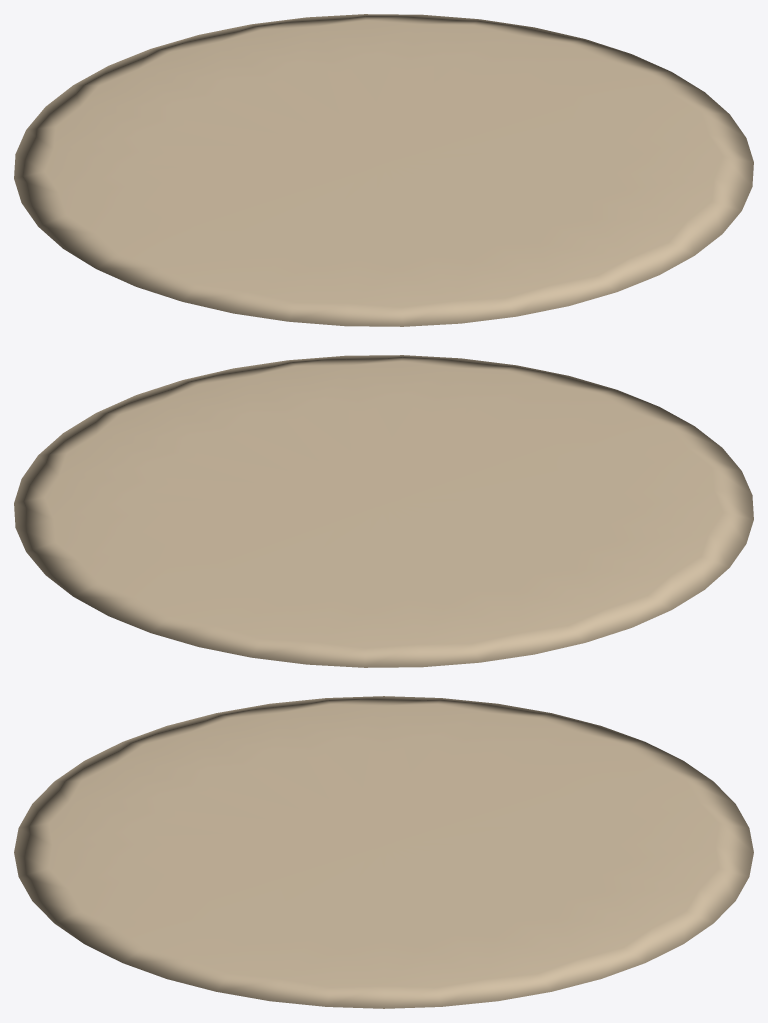
The model's file is carpet.fbx.
The picture shows the model from 3 angles, top to bottom: view 1: azimuth 30°, elevation 25°; view 2: azimuth 150°, elevation 25°; view 3: azimuth 270°, elevation 25°; orthographic projection.
Visible parts, largest first — view 1: carpet; view 2: carpet; view 3: carpet.
Part boxes in pixels (bbox=[...]): carpet: bbox=[14, 14, 753, 326]; carpet: bbox=[14, 355, 753, 667]; carpet: bbox=[14, 696, 753, 1008].
Size of the model in its own units: 10.67 by 0.1252 by 10.67.
